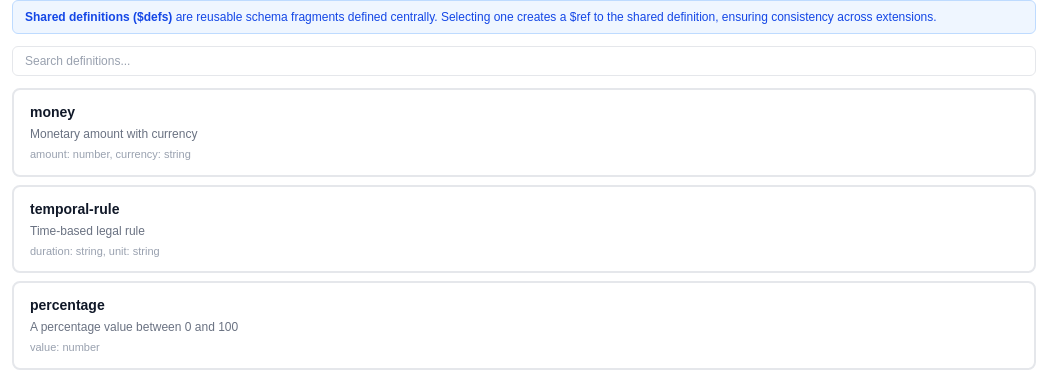
DefsBrowser › shows empty search state
Expected: the text "money" is shown, x1=30 y1=102 x2=75 y2=122
Type "nonexistent" into the field with placeholder "Search definitions..." at (524,61), box x1=12 y1=46 x2=1036 y2=76
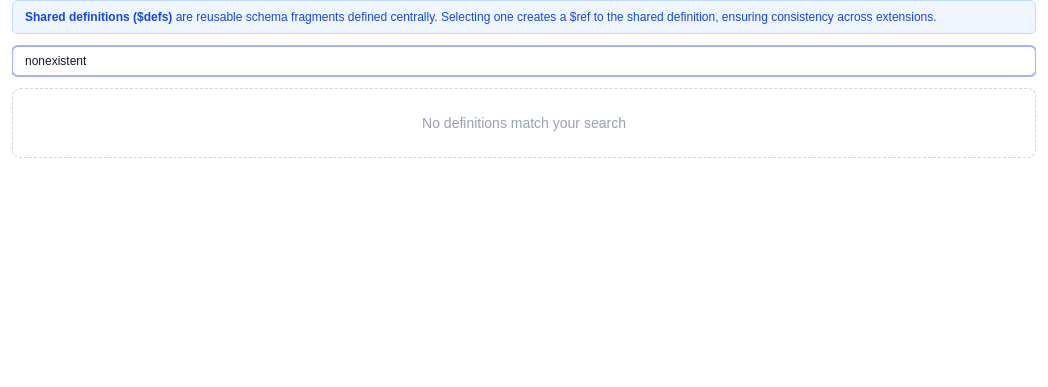
Expected: the text "No definitions match your search" is shown, x1=12 y1=88 x2=1036 y2=158
